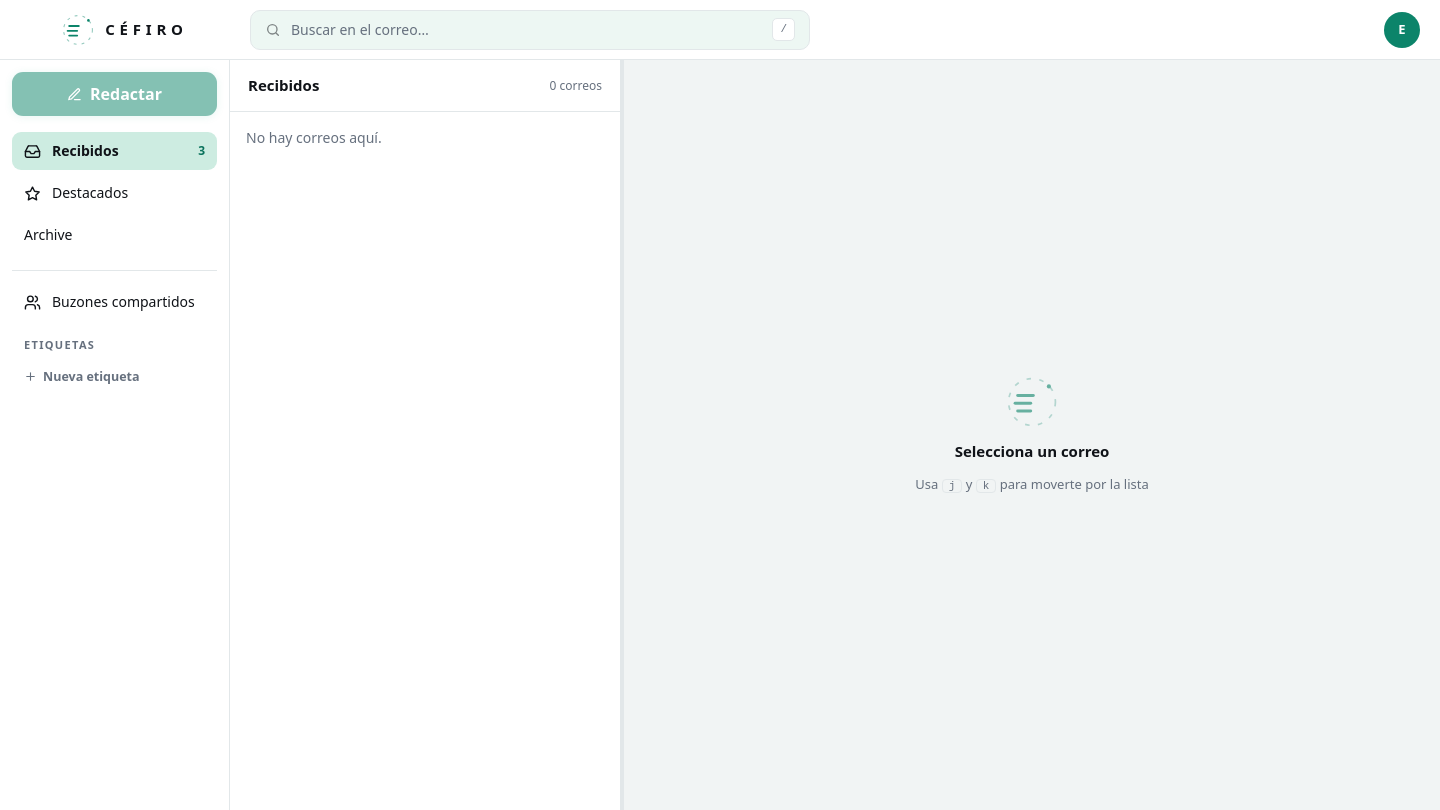
it: mailbox sidebar › has a 'Buzones compartidos' item that navigates to the shared mailboxes page
Click the button "Buzones compartidos". click: [114, 302]
box: left=12, top=283, right=217, bottom=321
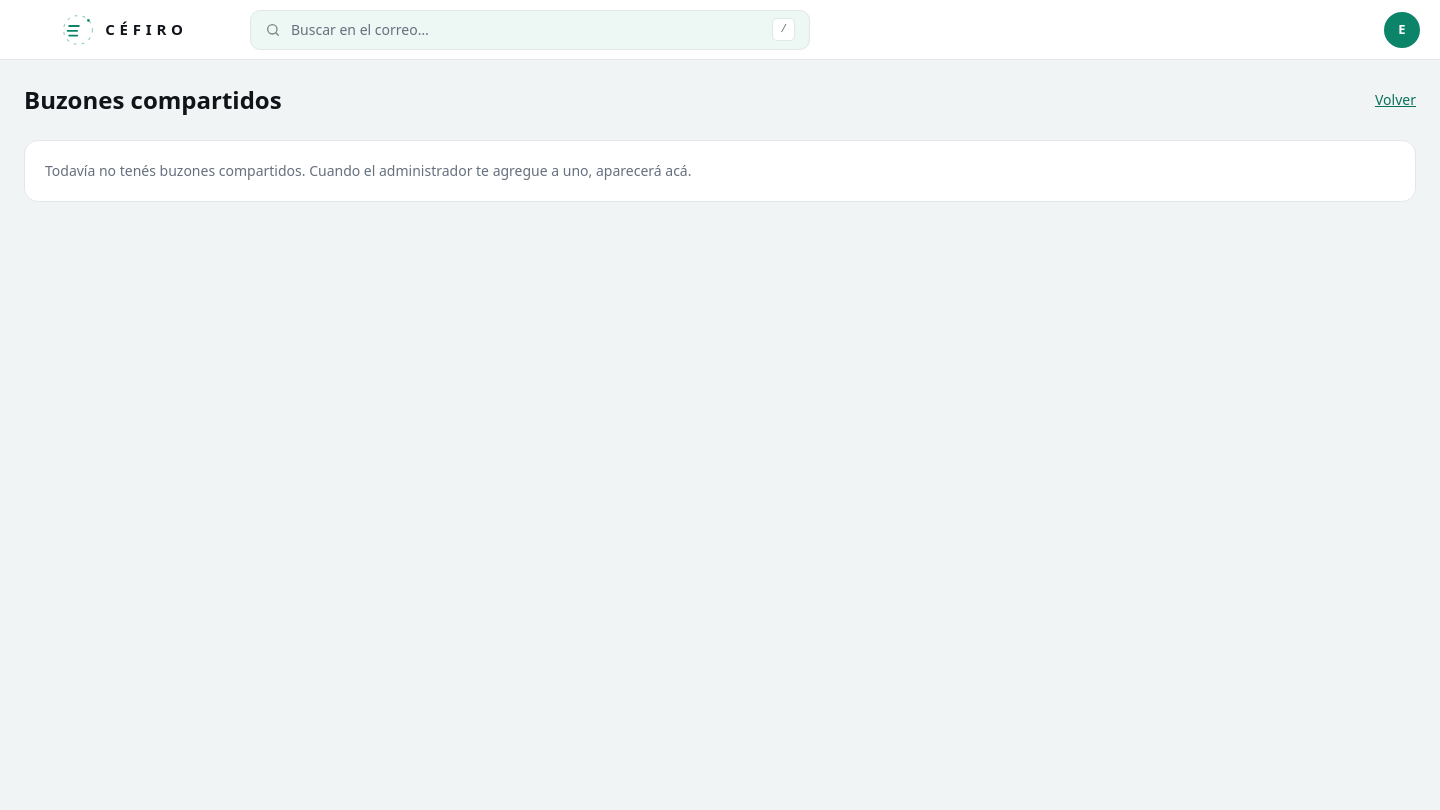
Now the heading "Buzones compartidos" is shown, box left=24, top=84, right=282, bottom=116
Now the text "Todavía no tenés buzones compartidos. Cuando el administrador te agregue a uno, aparecerá acá." is shown, box left=45, top=161, right=692, bottom=180
